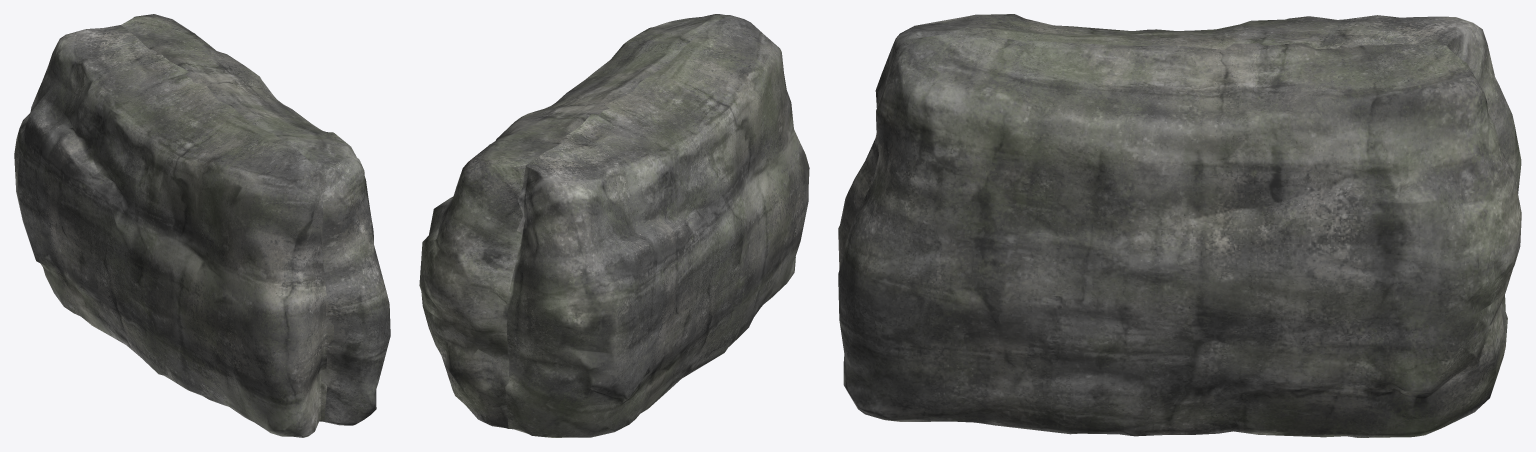
Rendered from SM_RockCliff_02.fbx.
The picture shows the model from 3 angles, left to right: view 1: azimuth 30°, elevation 25°; view 2: azimuth 150°, elevation 25°; view 3: azimuth 270°, elevation 25°; orthographic projection. The views are drawn at different scales.
Visible parts, largest first — view 1: SM_RockCliff_02_LOD0; view 2: SM_RockCliff_02_LOD0; view 3: SM_RockCliff_02_LOD0.
Boxes of the visible parts, box(x1,y1,x2,y2) form: SM_RockCliff_02_LOD0: box(14, 14, 390, 437); SM_RockCliff_02_LOD0: box(419, 14, 809, 437); SM_RockCliff_02_LOD0: box(838, 14, 1521, 437).
Bounding box in the file's own units: 405 × 843 × 495.
